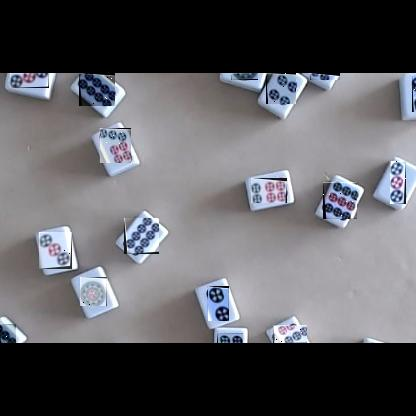1p: (80, 277, 107, 306), (231, 73, 258, 80)
2p: (207, 286, 229, 321), (412, 75, 416, 112)
3p: (39, 232, 72, 269), (390, 161, 406, 204), (10, 73, 49, 88)
4p: (266, 73, 296, 104)
5p: (217, 333, 243, 343)
6p: (251, 178, 287, 203)
7p: (99, 128, 131, 163)
8p: (124, 218, 159, 254), (79, 73, 115, 106), (310, 73, 340, 80)
9p: (323, 182, 357, 219), (273, 325, 307, 343), (0, 324, 16, 343)
